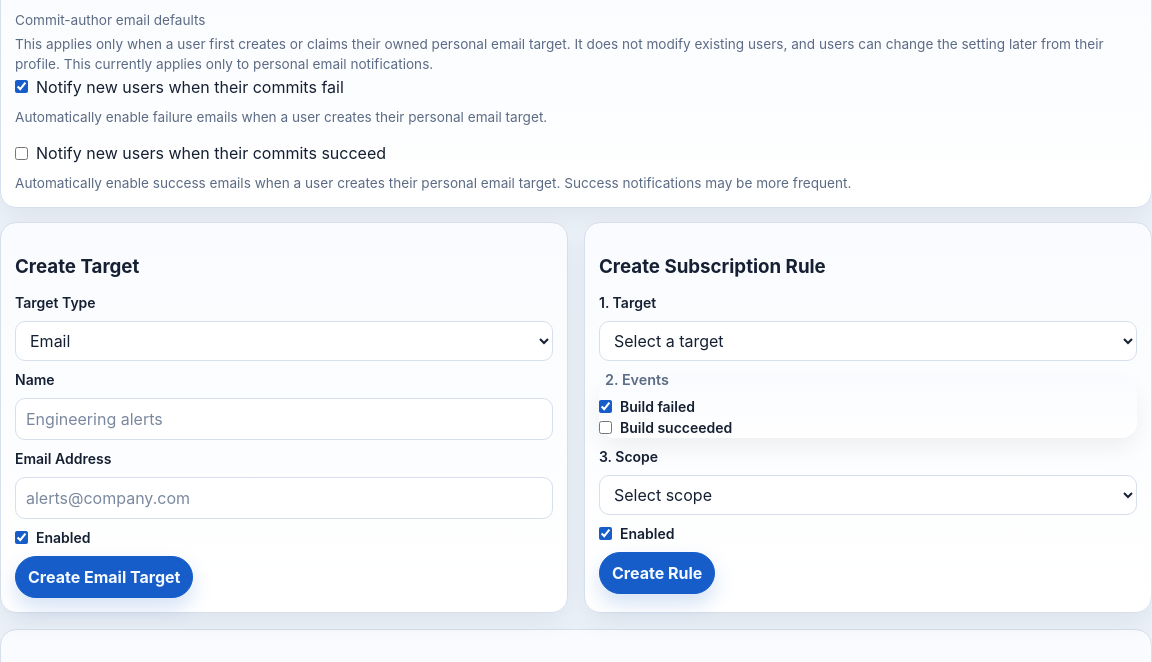
Test: NotificationsPage › shows validation error when scope is missing
(page scrolled)
Select "Email · Engineering alerts" in the dropdown labelled "1. Target" at (868, 340), box x1=599 y1=320 x2=1137 y2=360
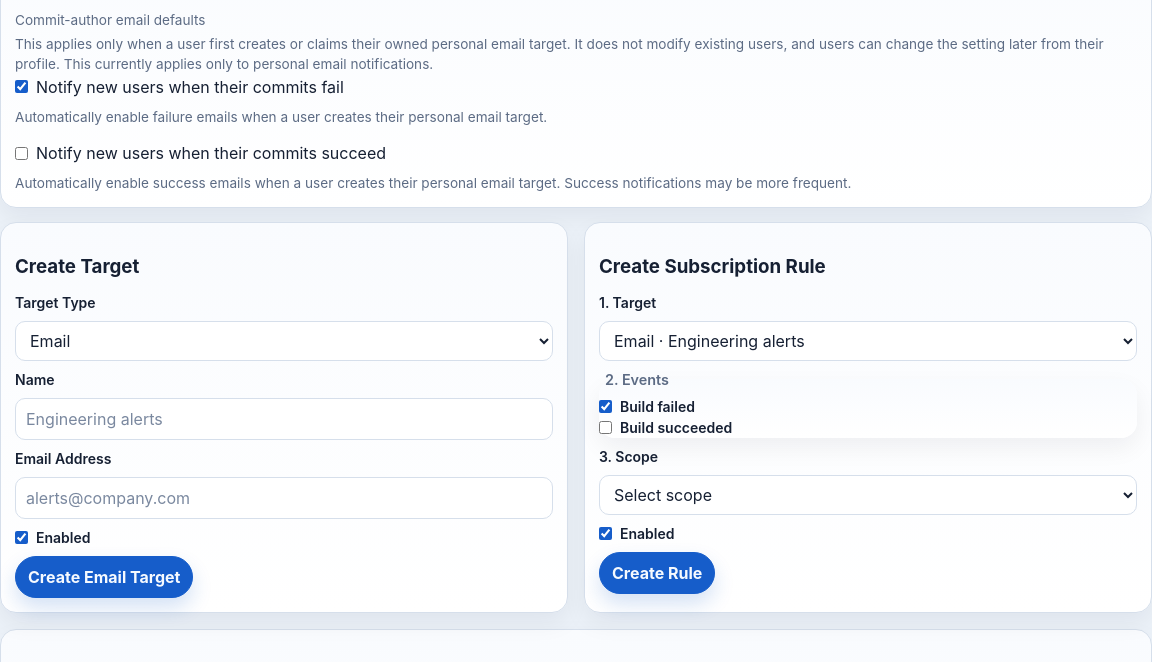
Click the button "Create Rule" at (657, 573), box x1=599 y1=552 x2=715 y2=594
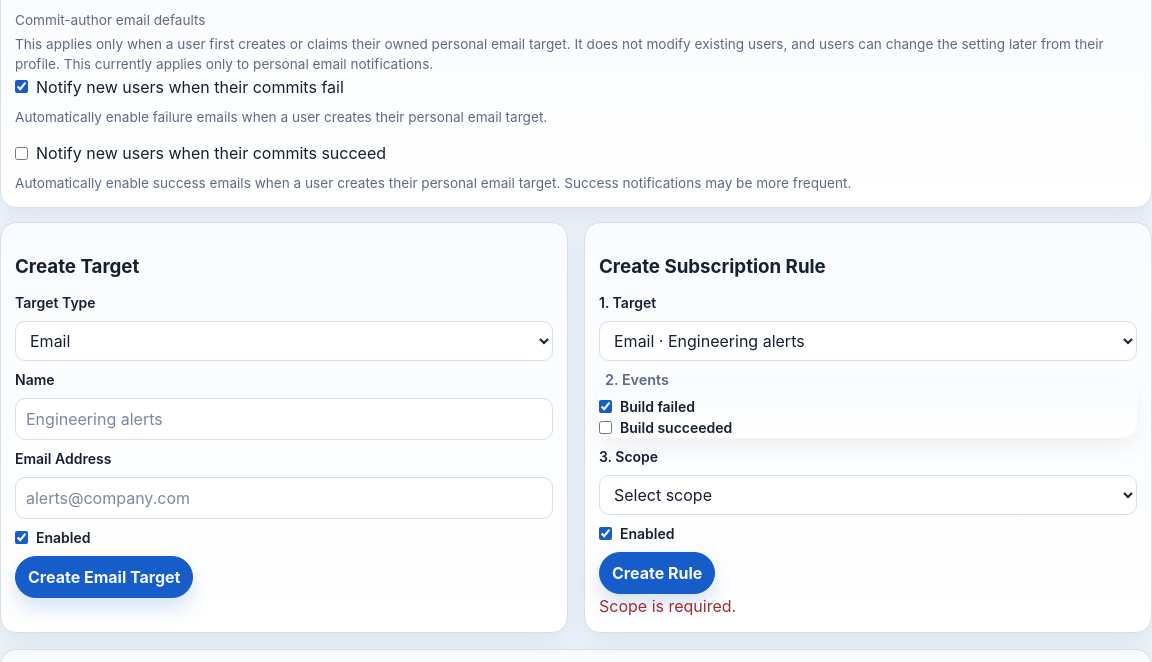
Expected: the text "Scope is required." is shown, x1=599 y1=596 x2=736 y2=616
